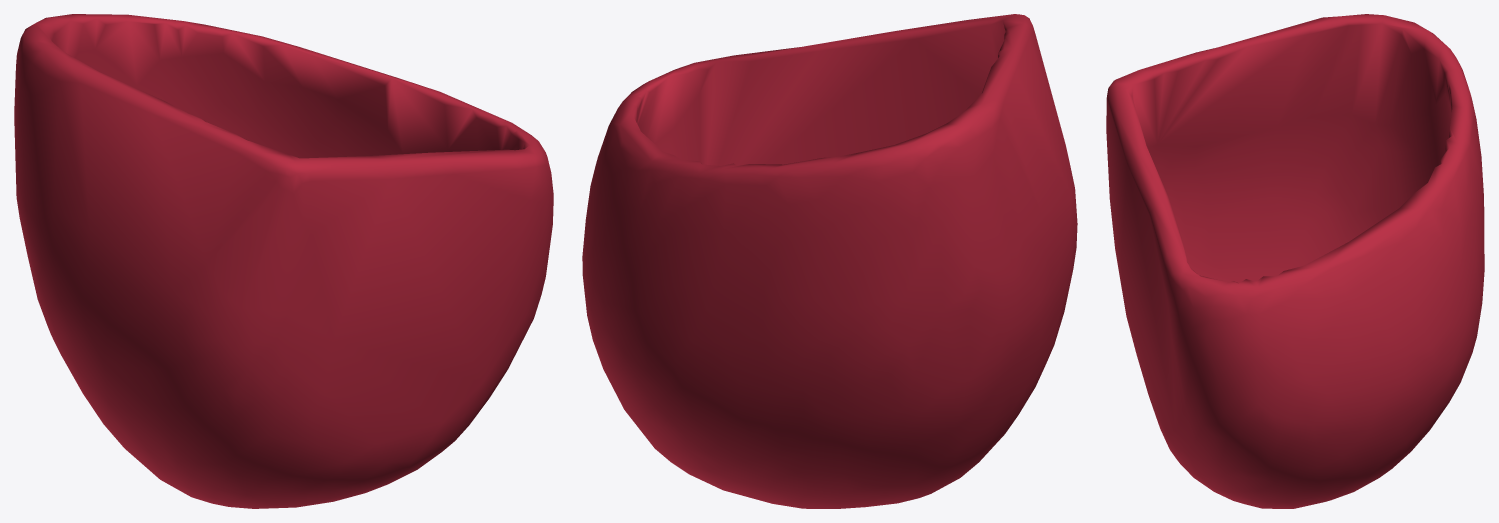
Rendered from left-semilunar-leaflet-of-pulmonary-valve.glb.
3 renders of one model, left to right at view 1: azimuth 30°, elevation 25°; view 2: azimuth 150°, elevation 25°; view 3: azimuth 270°, elevation 25°, orthographic. The views are drawn at different scales.
Parts seen in each view (by area): view 1: Left semilunar leaflet of pulmonary valve; view 2: Left semilunar leaflet of pulmonary valve; view 3: Left semilunar leaflet of pulmonary valve.
Boxes of the visible parts, x1=… form: Left semilunar leaflet of pulmonary valve: x1=14, y1=14, x2=553, y2=508; Left semilunar leaflet of pulmonary valve: x1=582, y1=14, x2=1077, y2=508; Left semilunar leaflet of pulmonary valve: x1=1106, y1=14, x2=1484, y2=508.
Bounding box in the file's own units: 0.0178 × 0.0171 × 0.0152.
